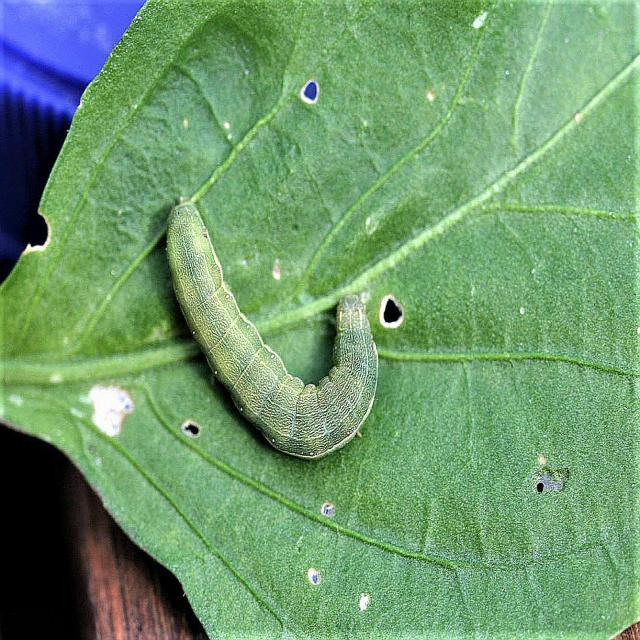Armyworm: (152, 156, 395, 487)
Armyworm_damage: (514, 457, 587, 517), (15, 195, 64, 270), (302, 491, 355, 540), (288, 71, 329, 117), (374, 300, 408, 340), (294, 567, 336, 597), (170, 413, 205, 445)
